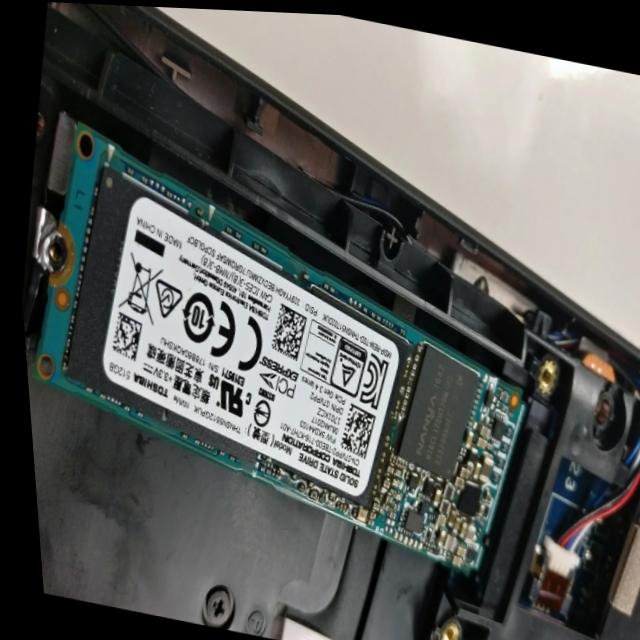datamatrix: (262, 300, 307, 361), (330, 398, 373, 458), (103, 309, 141, 362)
